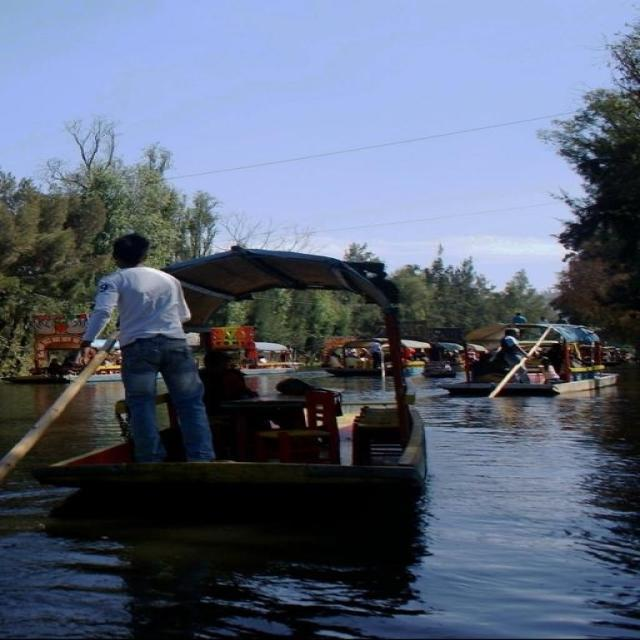boat: (48, 382, 430, 538), (444, 369, 614, 396), (426, 352, 452, 380)
